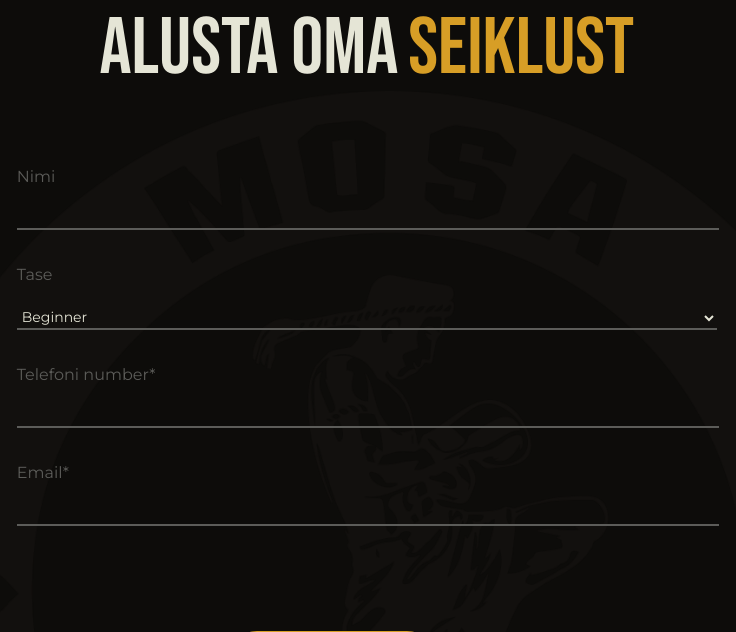
TrainReg Component › should show an error message for invalid email format
Type "wrongemail" into the field labelled "Email*" at (368, 515), box 17,504 -> 719,526
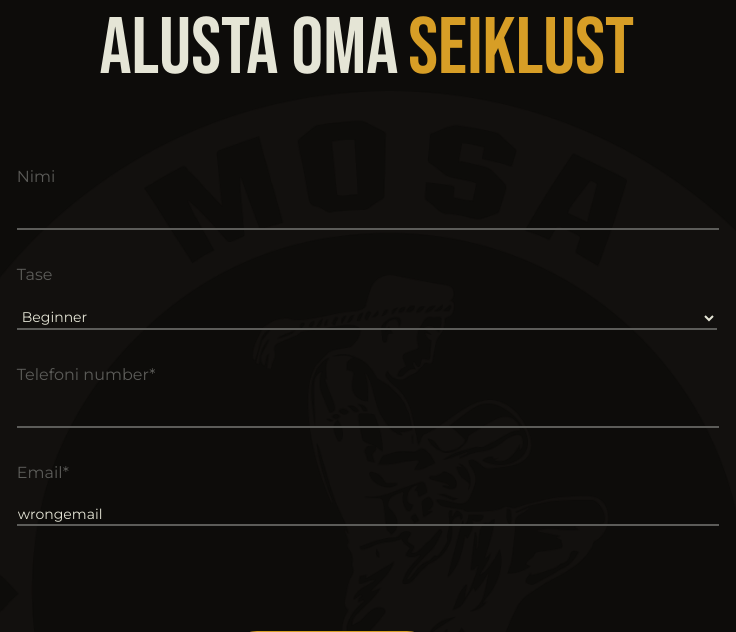
Submit the form from the field labelled "Email*", box 17,504 -> 719,526
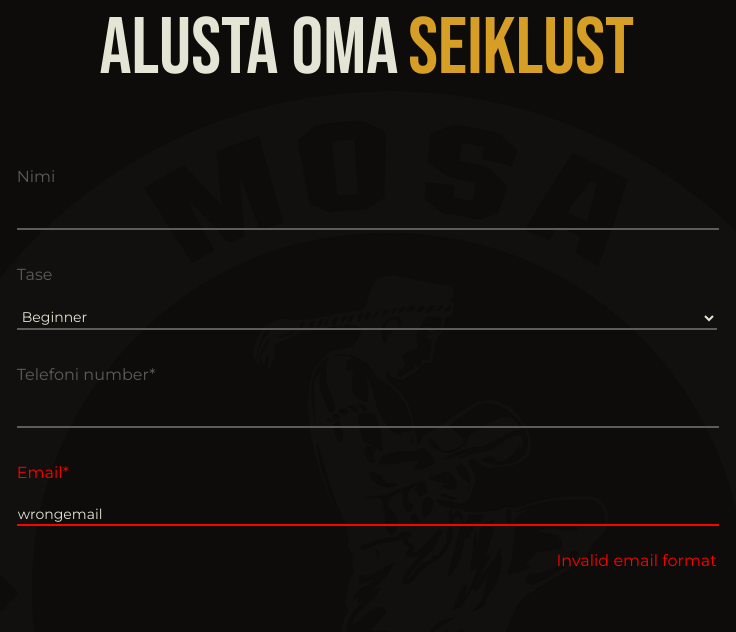
Expected: the text "Invalid email format" is shown, 556,551 -> 717,570
Replace the text in the field labelled "Email*" with "correct@email.com" at (368, 515), box 17,504 -> 719,526
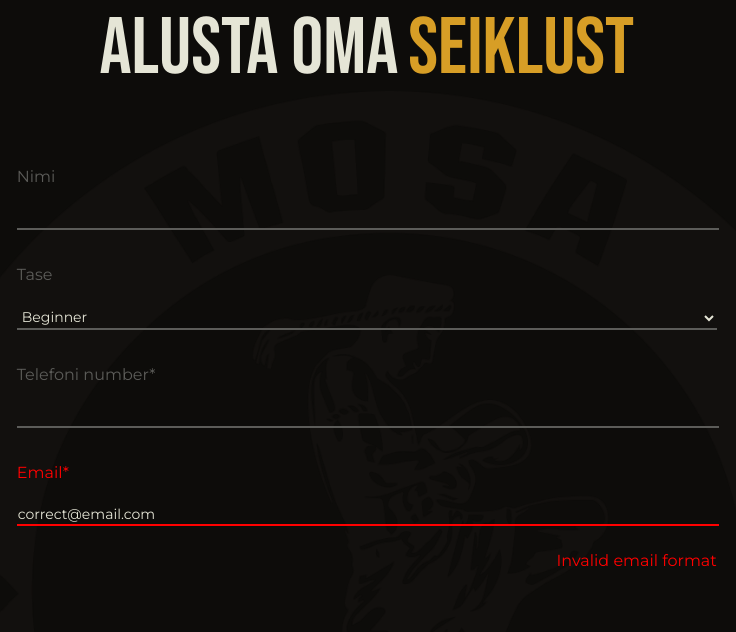
Submit the form from the field labelled "Email*", box 17,504 -> 719,526
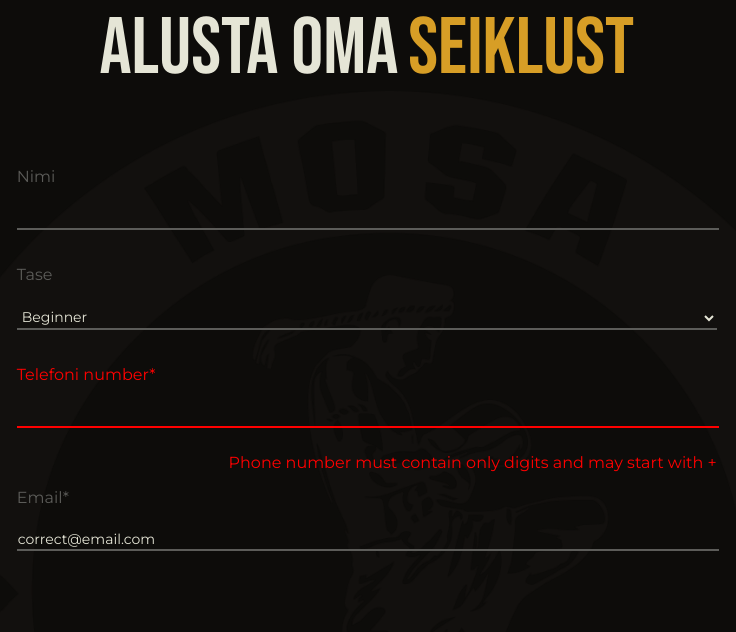
Expected: the text "Invalid email format" is gone
